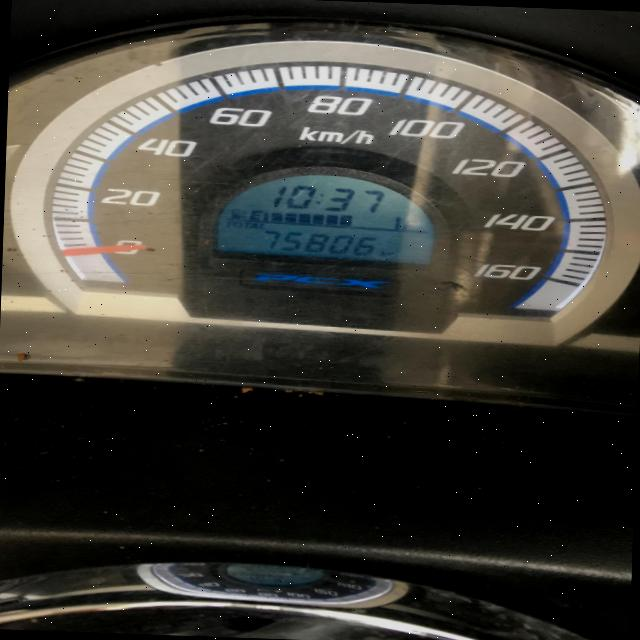odometer: (190, 160, 458, 274)
